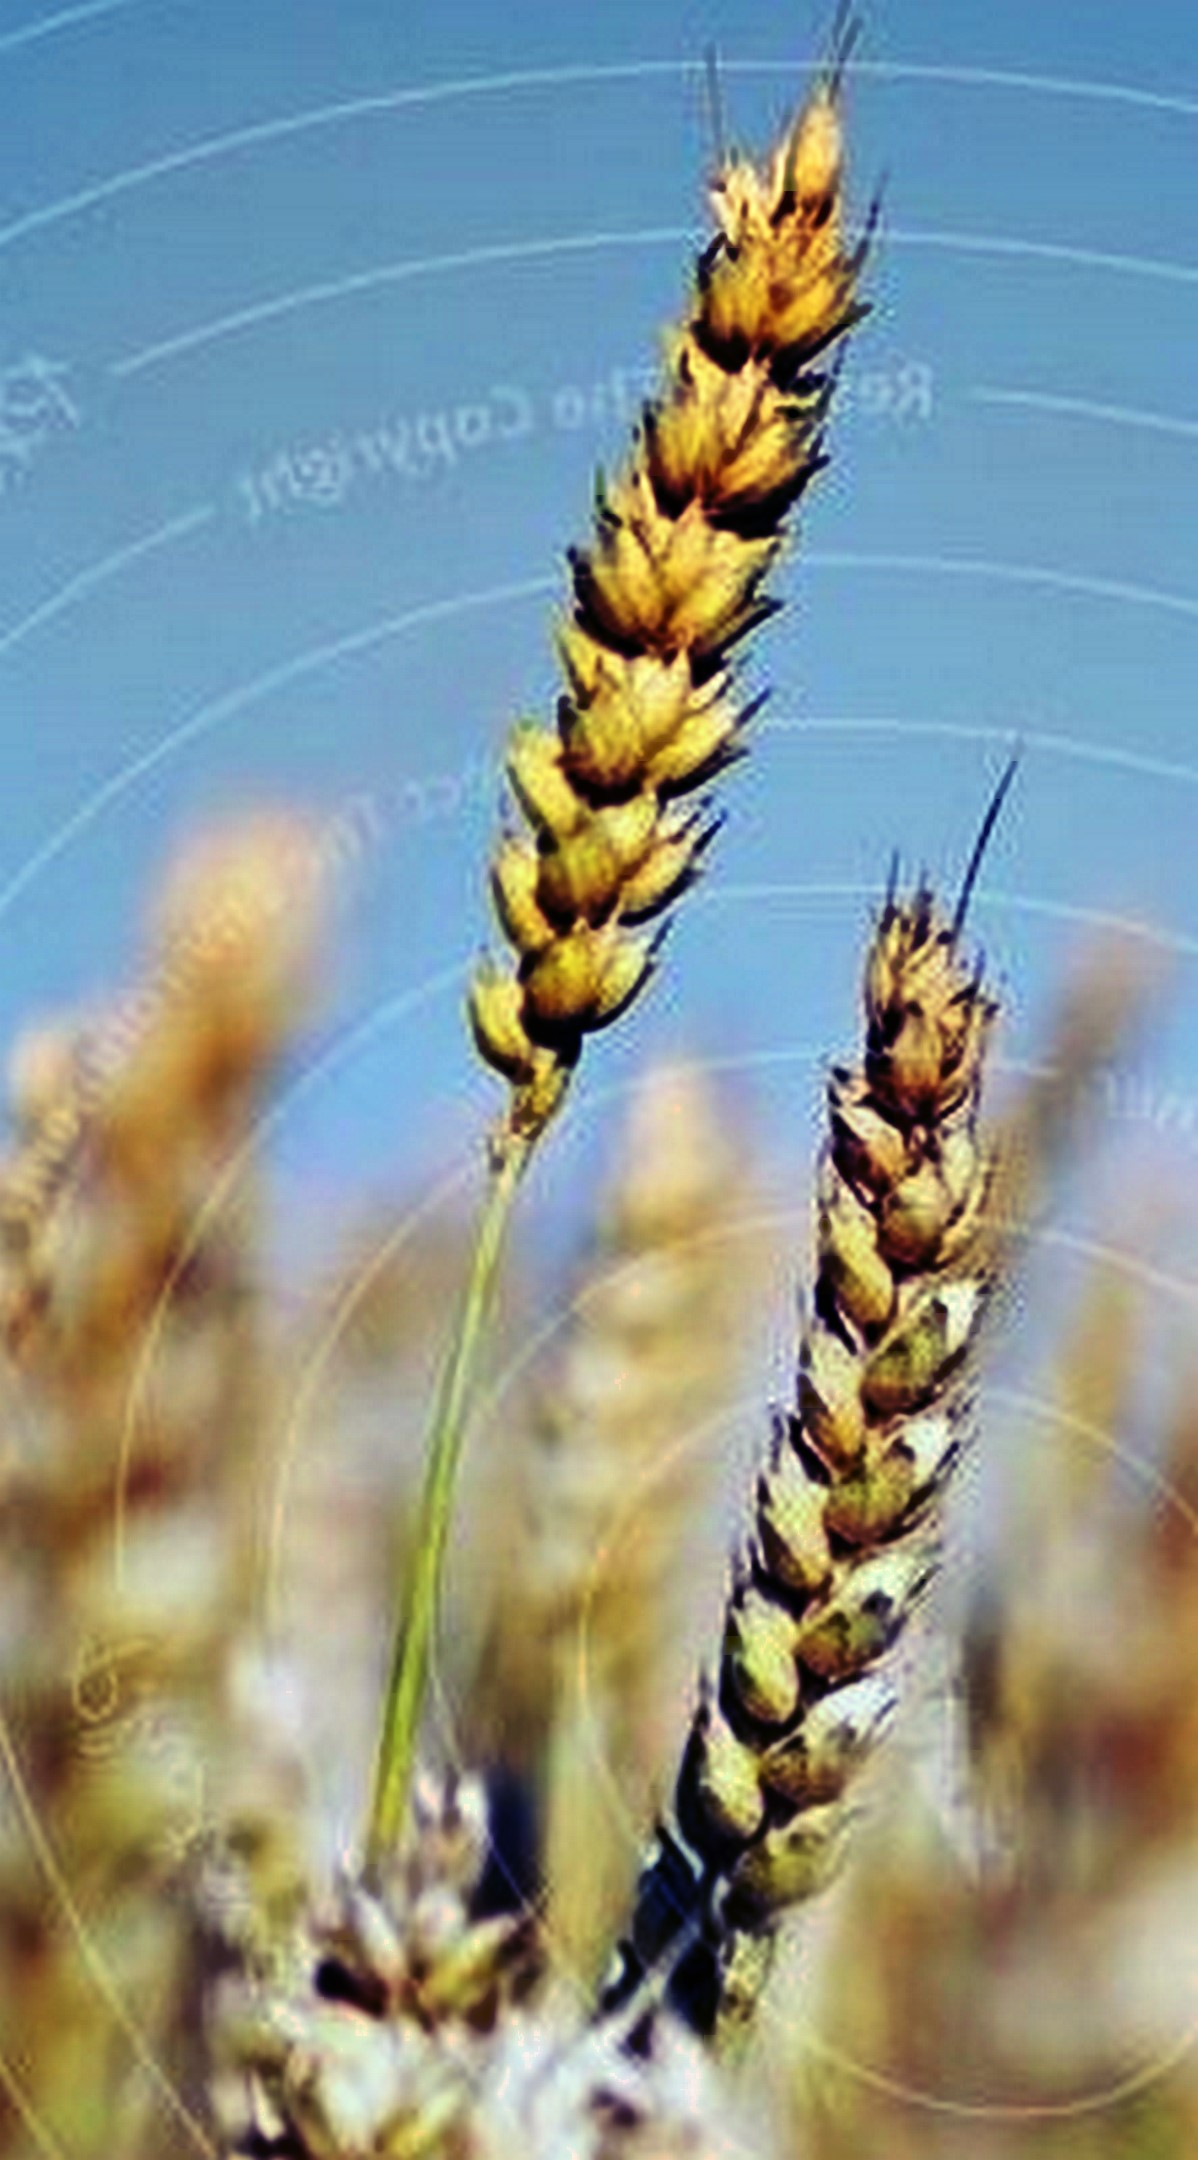Healthy Wheat: (423, 87, 963, 1112)
